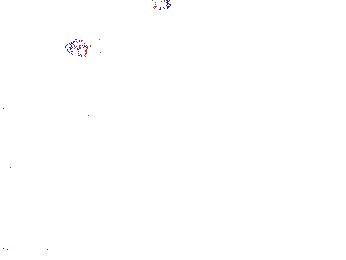X-ray fish: (64, 35, 114, 60), (232, 7, 260, 37), (136, 1, 174, 13)
